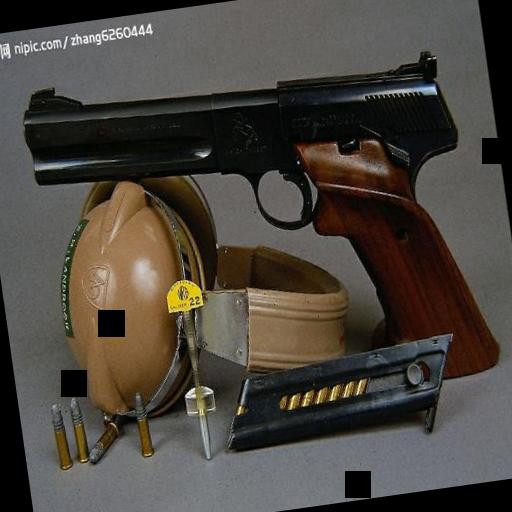Handgun: (13, 24, 504, 440)
